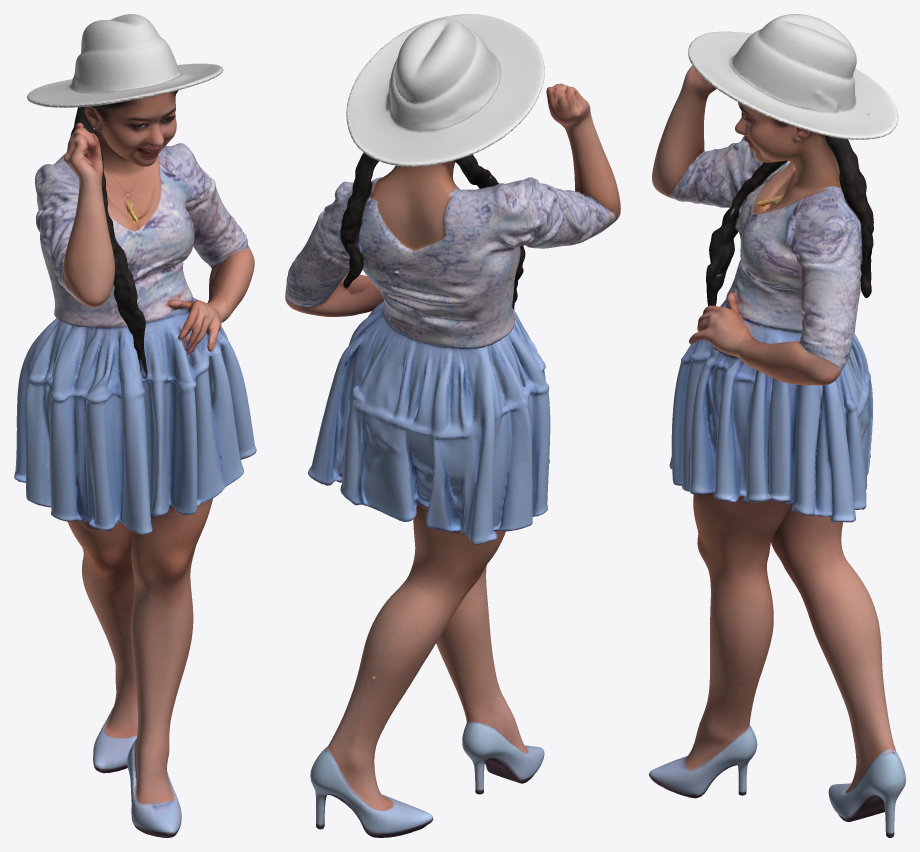
Rendered from cuecamujer.glb.
The picture shows the model from 3 angles, left to right: view 1: azimuth 30°, elevation 25°; view 2: azimuth 150°, elevation 25°; view 3: azimuth 270°, elevation 25°; orthographic projection. The views are drawn at different scales.
Parts seen in each view (by area): view 1: tripo_node_f3ebf9ae-221e-4095-8ee5-872afa7a4ea8; view 2: tripo_node_f3ebf9ae-221e-4095-8ee5-872afa7a4ea8; view 3: tripo_node_f3ebf9ae-221e-4095-8ee5-872afa7a4ea8.
Boxes of the visible parts, x1,y1,x2,y2 form: tripo_node_f3ebf9ae-221e-4095-8ee5-872afa7a4ea8: (14, 14, 256, 837); tripo_node_f3ebf9ae-221e-4095-8ee5-872afa7a4ea8: (285, 14, 620, 837); tripo_node_f3ebf9ae-221e-4095-8ee5-872afa7a4ea8: (649, 14, 905, 837).
Size of the model in its own units: 0.3421 by 1 by 0.2979.
Materials: 1 (1 with a texture image).
